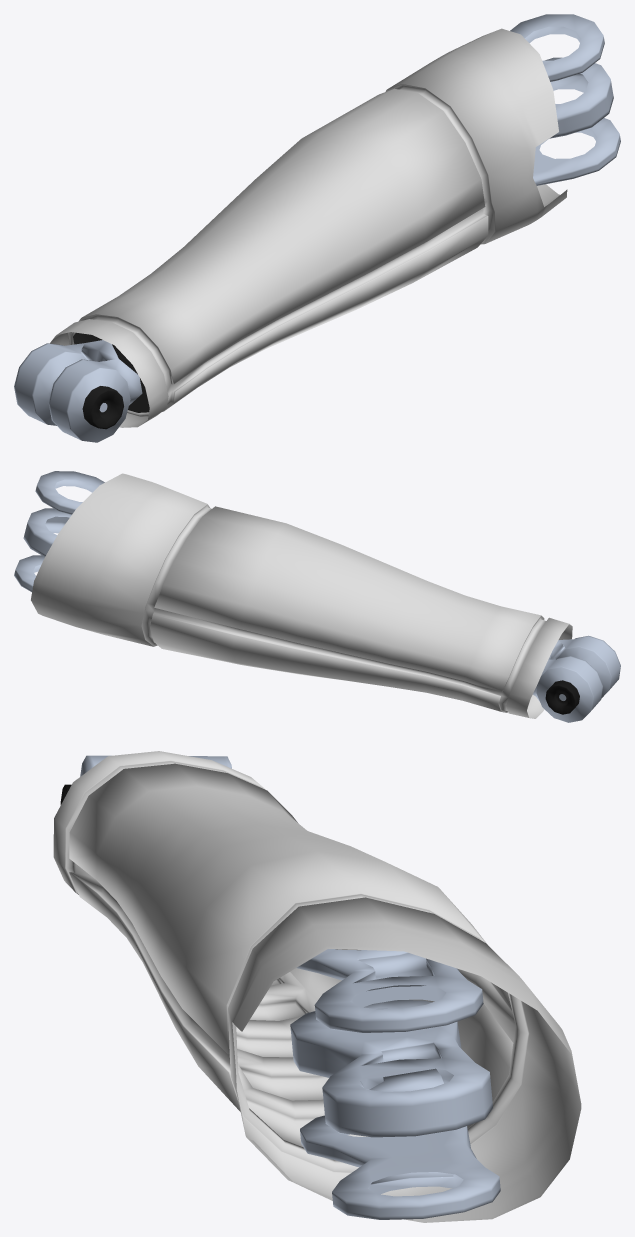
Rendered from rightForearm.dae.
3 renders of one model, top to bottom at view 1: azimuth 30°, elevation 25°; view 2: azimuth 150°, elevation 25°; view 3: azimuth 270°, elevation 25°, orthographic. The views are drawn at different scales.
Visible parts, largest first — view 1: main_003, Circle_164, Circle_130; view 2: main_003, Circle_164, Circle_130; view 3: main_003, Circle_130.
Boxes of the visible parts, x1=… form: main_003: x1=50, y1=28, x2=567, y2=427; Circle_164: x1=14, y1=340, x2=142, y2=442; Circle_130: x1=510, y1=14, x2=620, y2=185; main_003: x1=31, y1=473, x2=572, y2=718; Circle_164: x1=533, y1=635, x2=620, y2=722; Circle_130: x1=14, y1=471, x2=104, y2=591; main_003: x1=53, y1=751, x2=581, y2=1222; Circle_130: x1=290, y1=949, x2=500, y2=1219.
Bounding box in the file's own units: 4.43 × 1.93 × 1.39.
